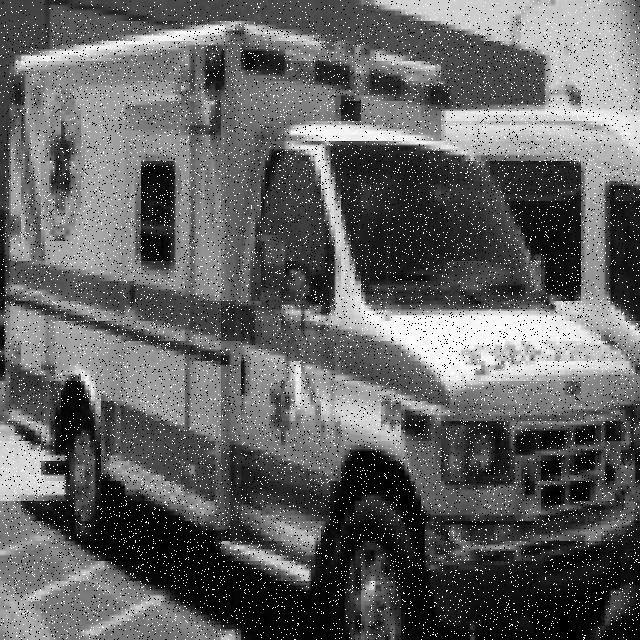Ambulance: (3, 21, 640, 640)
